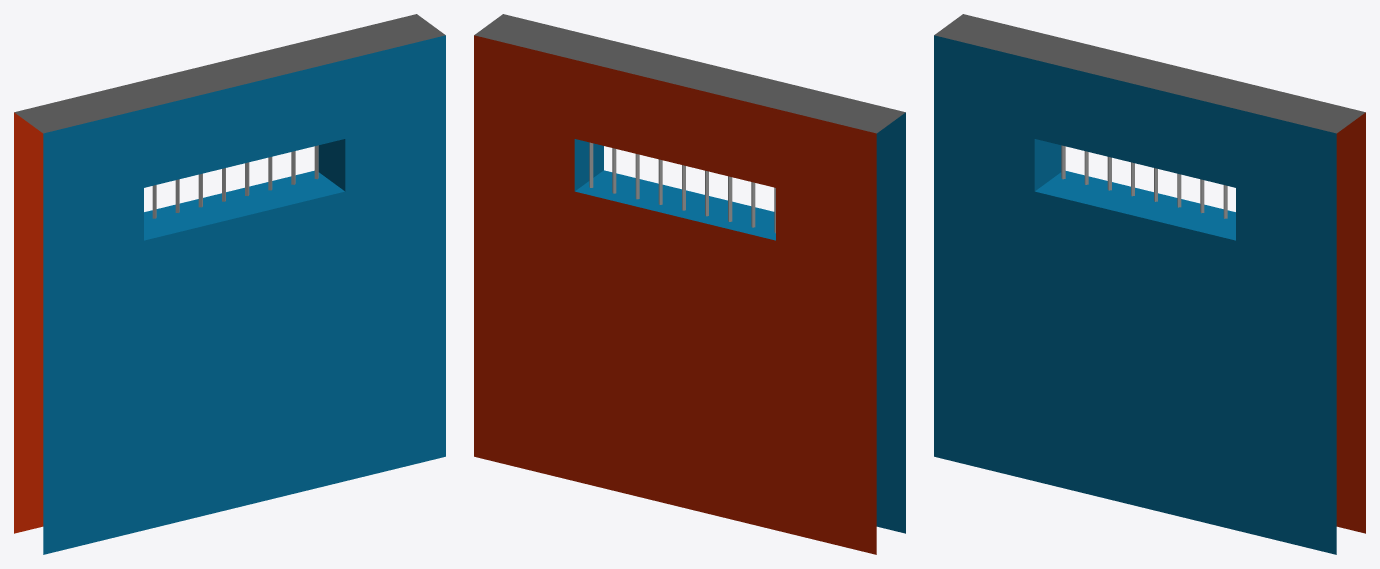
File: Wall_PrisonWindow.fbx
3 views of the same model, side by side, from view 1: azimuth 30°, elevation 25°; view 2: azimuth 150°, elevation 25°; view 3: azimuth 330°, elevation 25° (orthographic).
Parts seen in each view (by area): view 1: Wall_Long_Window_4x4, Fixtures:Bars_small; view 2: Wall_Long_Window_4x4, Fixtures:Bars_small; view 3: Wall_Long_Window_4x4, Fixtures:Bars_small.
Part boxes in pixels (x1,y1,x2,y2): Wall_Long_Window_4x4: (14,14,445,554); Fixtures:Bars_small: (152,145,318,218); Wall_Long_Window_4x4: (474,14,905,554); Fixtures:Bars_small: (589,142,775,233); Wall_Long_Window_4x4: (934,14,1365,554); Fixtures:Bars_small: (1061,145,1227,218).
Size of the model in its own units: 4 by 4 by 0.5.
